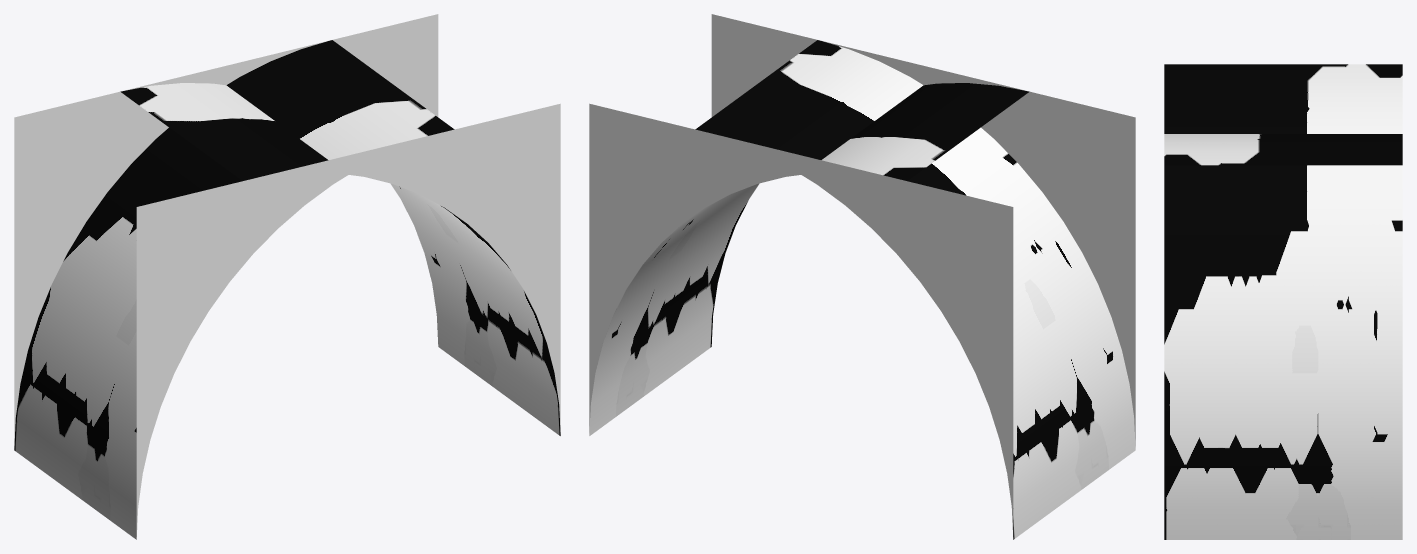
File: Group_Whitebox_cube (27).fbx
3 renders of one model, left to right at view 1: azimuth 30°, elevation 25°; view 2: azimuth 150°, elevation 25°; view 3: azimuth 270°, elevation 25°, orthographic. The views are drawn at different scales.
Parts seen in each view (by area): view 1: Whitebox_cube (25), Whitebox_cube (26); view 2: Whitebox_cube (25), Whitebox_cube (26); view 3: Whitebox_cube (26), Whitebox_cube (25).
Boxes of the visible parts, x1=… form: Whitebox_cube (25): x1=14, y1=40, x2=454, y2=539; Whitebox_cube (26): x1=120, y1=14, x2=560, y2=435; Whitebox_cube (25): x1=695, y1=40, x2=1135, y2=539; Whitebox_cube (26): x1=589, y1=14, x2=1029, y2=435; Whitebox_cube (26): x1=1164, y1=64, x2=1402, y2=539; Whitebox_cube (25): x1=1164, y1=134, x2=1402, y2=165.
Size of the model in its own units: 2 by 1.5 by 1.
1 material, 1 textured.
